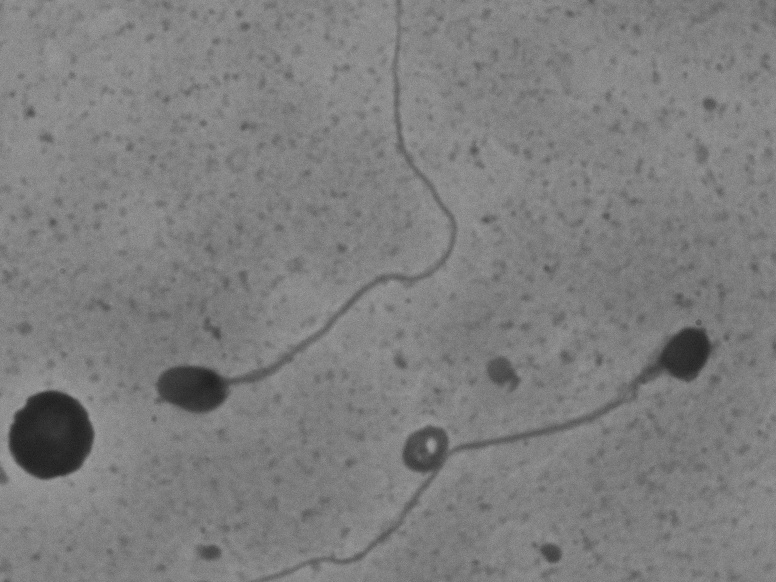Abnormal: (93, 159, 498, 428), (436, 282, 731, 522)
